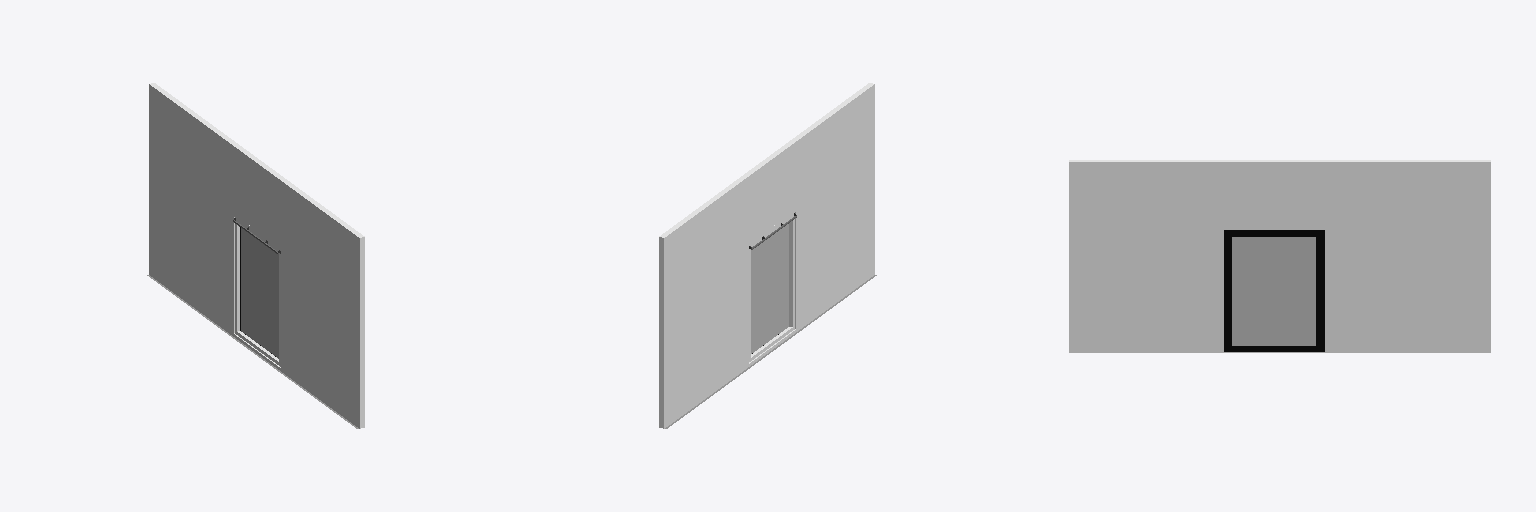
Rendered from Dachschräge.obj.
3 views of the same model, side by side, from view 1: azimuth 30°, elevation 25°; view 2: azimuth 150°, elevation 25°; view 3: azimuth 270°, elevation 25° (orthographic).
Visible parts, largest first — view 1: wall_1_5, sweethome3d_opening_on_hinge_1_glass_16, sweethome3d_opening_on_hinge_1_frameIn_13, Cube_8, wall_1_4, wall_1_7, wall_1_6; view 2: wall_1_5, sweethome3d_opening_on_hinge_1_glass_16, sweethome3d_opening_on_hinge_1_frameIn_13, Cube_8, wall_1_4, wall_1_7, wall_1_6; view 3: wall_1_4, sweethome3d_opening_on_hinge_1_glass_16, sweethome3d_opening_on_hinge_1_frameOut_14, 9.
Boxes of the visible parts, x1=… form: wall_1_5: x1=149, y1=84, x2=361, y2=428; sweethome3d_opening_on_hinge_1_glass_16: x1=241, y1=228, x2=278, y2=358; sweethome3d_opening_on_hinge_1_frameIn_13: x1=235, y1=218, x2=280, y2=366; Cube_8: x1=232, y1=213, x2=281, y2=370; wall_1_4: x1=362, y1=237, x2=364, y2=427; wall_1_7: x1=150, y1=83, x2=361, y2=237; wall_1_6: x1=152, y1=83, x2=364, y2=236; wall_1_5: x1=662, y1=84, x2=874, y2=428; sweethome3d_opening_on_hinge_1_glass_16: x1=751, y1=224, x2=788, y2=353; sweethome3d_opening_on_hinge_1_frameIn_13: x1=749, y1=214, x2=794, y2=361; Cube_8: x1=747, y1=209, x2=797, y2=366; wall_1_4: x1=659, y1=237, x2=661, y2=427; wall_1_7: x1=662, y1=83, x2=873, y2=237; wall_1_6: x1=659, y1=83, x2=871, y2=236; wall_1_4: x1=1069, y1=162, x2=1490, y2=352; sweethome3d_opening_on_hinge_1_glass_16: x1=1232, y1=237, x2=1315, y2=345; sweethome3d_opening_on_hinge_1_frameOut_14: x1=1227, y1=233, x2=1320, y2=349; 9: x1=1224, y1=230, x2=1324, y2=351.
Size of the model in its own units: 10.13 by 250 by 500.